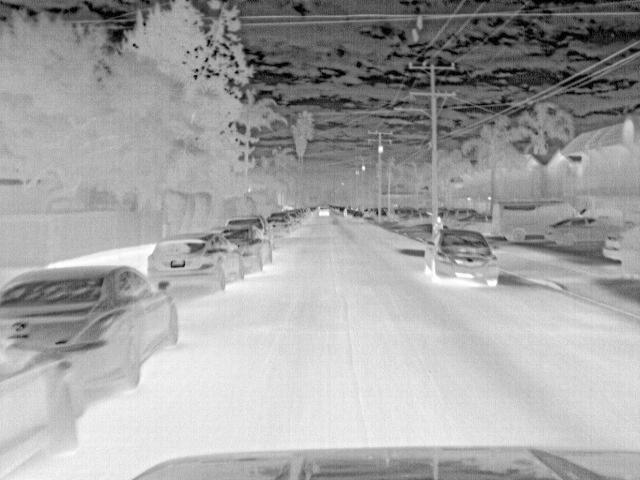car: (2, 264, 186, 389), (2, 340, 85, 478), (147, 234, 244, 294), (421, 228, 499, 288), (492, 199, 579, 242), (542, 214, 619, 246), (222, 225, 272, 273), (603, 234, 627, 264), (261, 216, 290, 237), (455, 214, 493, 230), (443, 208, 477, 225), (315, 206, 334, 218), (349, 212, 367, 224)
person: (432, 215, 445, 236)
